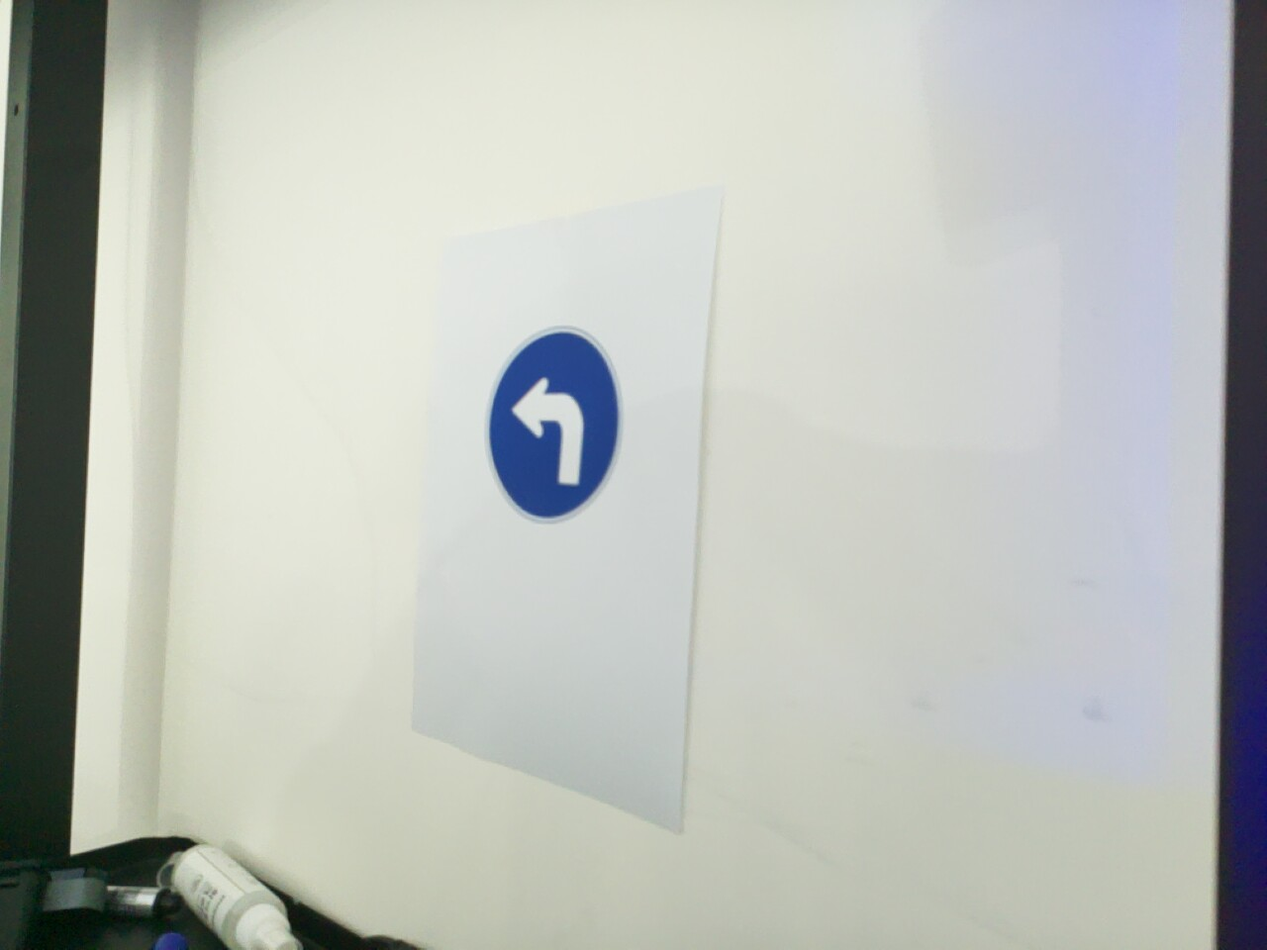left_turn: (483, 325, 625, 524)
